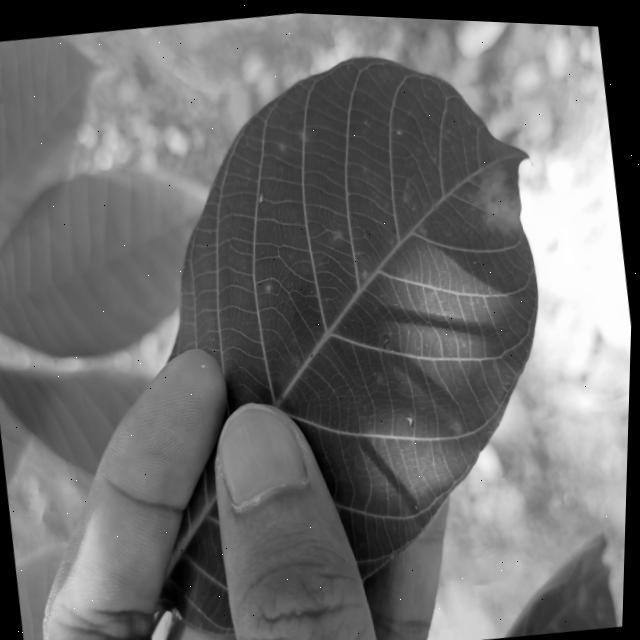Leaf-Blight: (380, 330, 392, 343)
